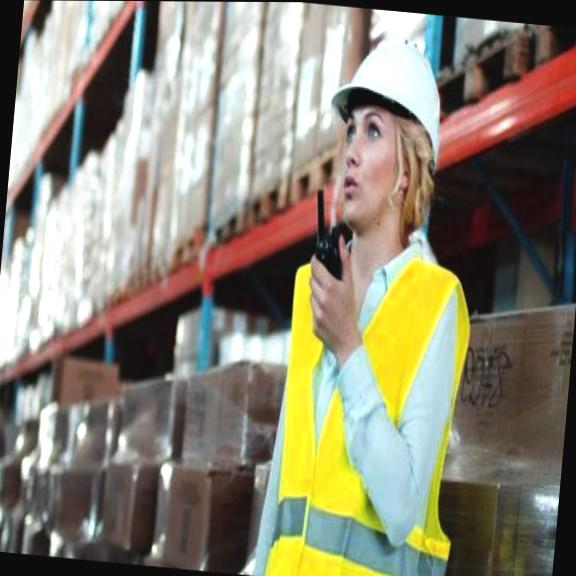safety_vest: (257, 226, 478, 576)
